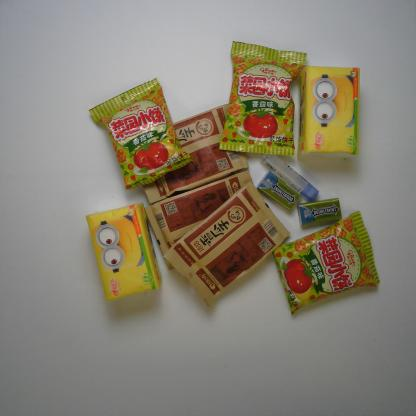Dried Food: (157, 185, 284, 299), (138, 167, 264, 264), (130, 103, 257, 197)
Gum: (255, 170, 303, 215), (294, 190, 345, 230)
Puffed Food: (270, 205, 381, 314), (88, 76, 186, 182), (222, 41, 310, 158)
Stationery: (260, 147, 328, 197)
Tissue: (83, 205, 157, 304), (295, 62, 371, 157)
